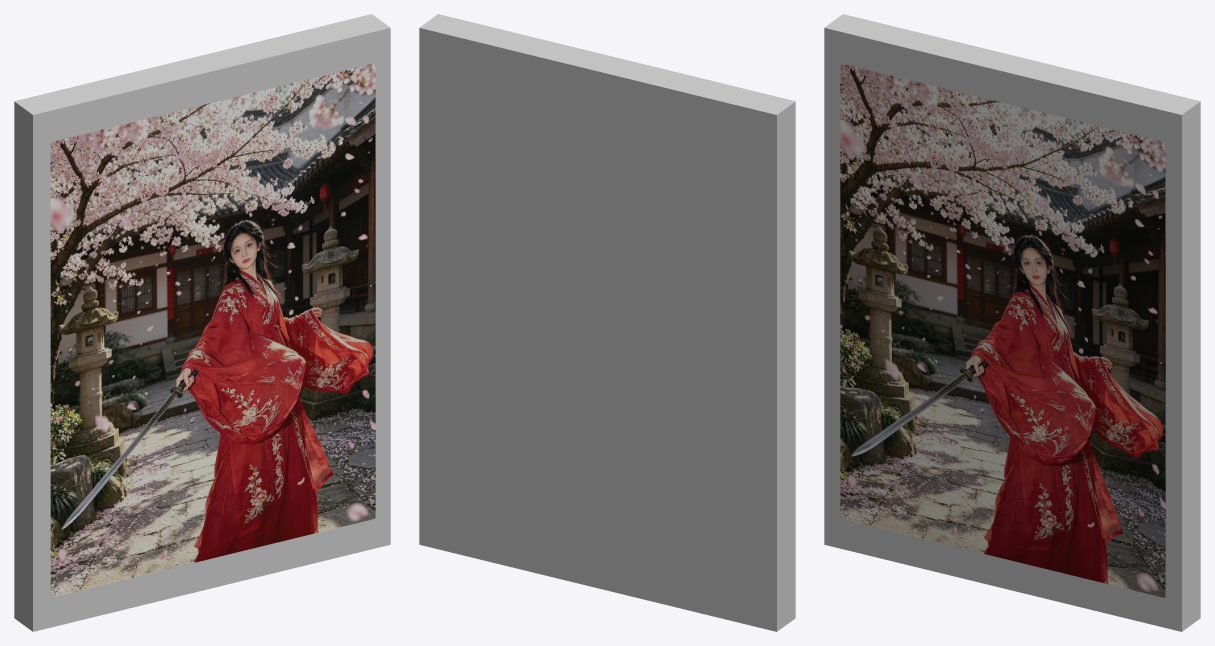
File: zhen (1).glb
3 views of the same model, side by side, from view 1: azimuth 30°, elevation 25°; view 2: azimuth 150°, elevation 25°; view 3: azimuth 330°, elevation 25° (orthographic).
Parts seen in each view (by area): view 1: 平面, 立方体; view 2: 立方体; view 3: 平面, 立方体.
Boxes of the visible parts, <box> form: 平面: <box>50,63,375,597</box>; 立方体: <box>14,14,390,631</box>; 立方体: <box>419,14,795,631</box>; 平面: <box>840,63,1165,598</box>; 立方体: <box>824,14,1200,631</box>.
Size of the model in its own units: 1.64 by 2.27 by 0.1551.
1 material, 1 textured.
